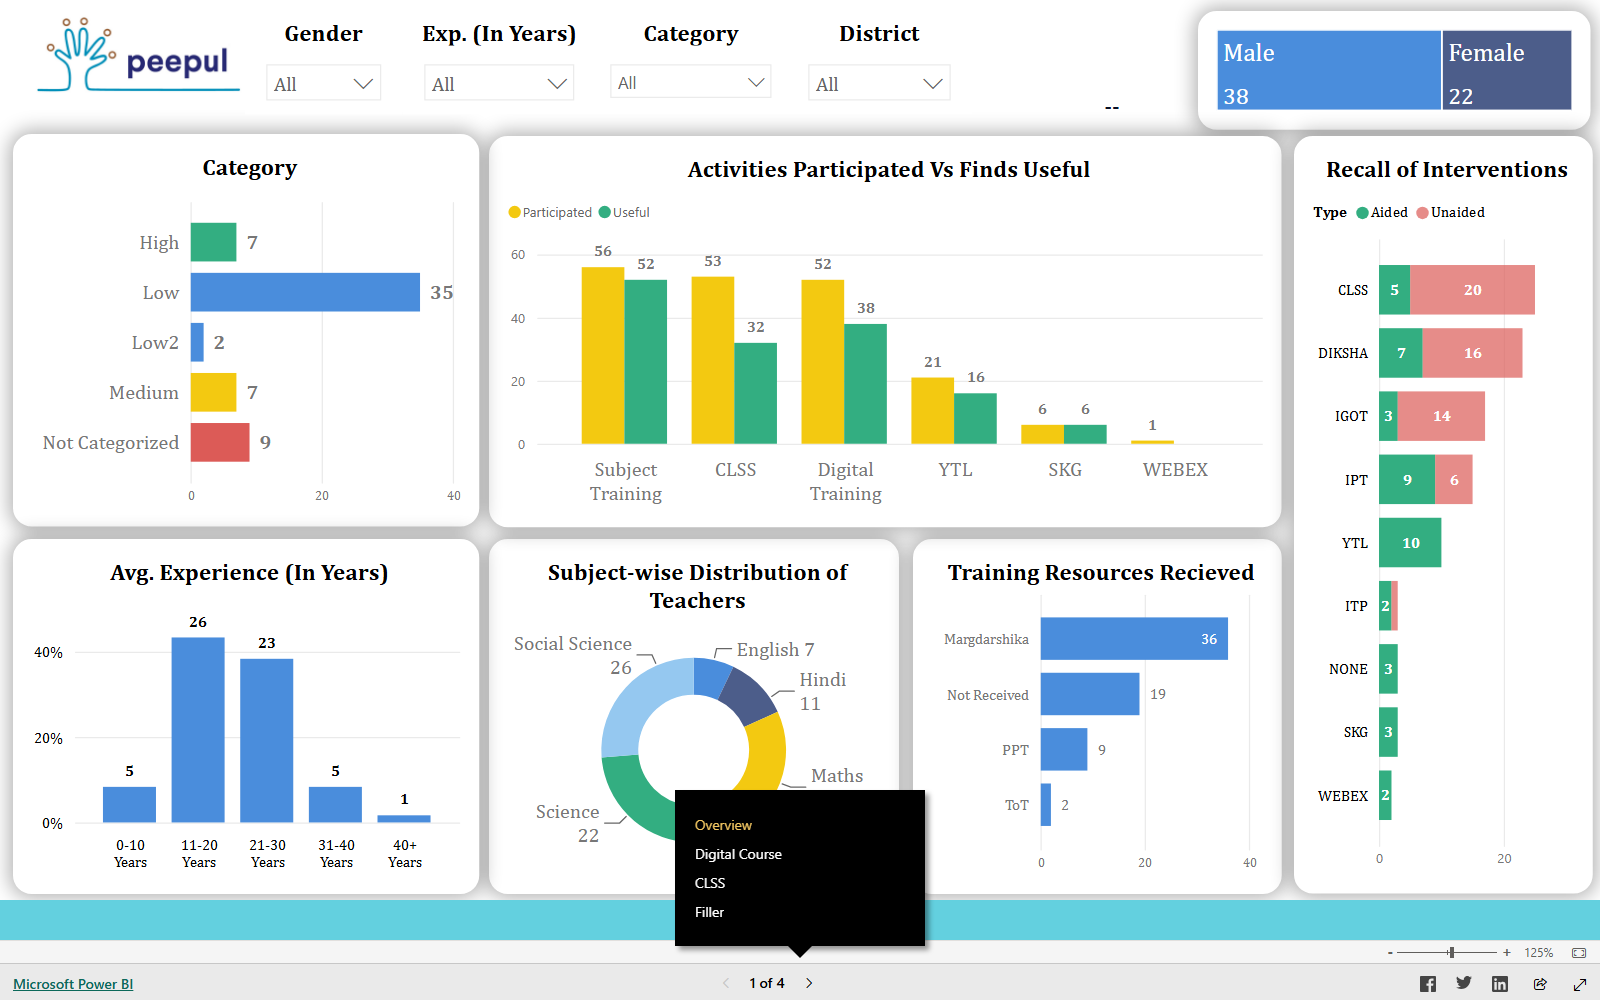

Layout of this report page (visuals, bound fields, positions):
{"tool":"powerbi","page":{"name":"Overview","canvas":[1280,720],"ordinal":0},"visuals":[{"type":"slicer","title":"Gender","fields":{"Values":["Quant_Structured.Gender of respondent"]},"box":[697.8,0,125.6,88.9],"z":0,"group":"g1"},{"type":"treemap","title":"Gender of respondent","fields":{"Group":["Quant_Structured.Gender of respondent"],"Values":["CountNonNull(Quant_Structured.Teacher_ID)"]},"box":[1035.1,108.3,238.8,94.8],"z":0},{"type":"slicer","title":"Exp. (In Years)","fields":{"Values":["Quant_Structured.Experience Category"]},"box":[824.5,0,154.4,88.9],"z":1000,"group":"g1"},{"type":"donutChart","title":"Subject-wise Distribution of Teachers","fields":{"Y":["Sum(Quant_Structured.Subject taught by teacher/English)","Sum(Quant_Structured.Subject taught by teacher/Hindi)","Sum(Quant_Structured.Subject taught by teacher/Maths)","Sum(Quant_Structured.Subject taught by teacher/Sanskrit)","Sum(Quant_Structured.Subject taught by teacher/Science)","Sum(Quant_Structured.Subject taught by teacher/Social Science)"]},"box":[391.2,431.2,327.5,283.8],"z":1000},{"type":"slicer","title":"Category","fields":{"Values":["Quant_Structured.CategoryWise","Quant_Structured.Teacher_ID"]},"box":[973.4,0,163.3,88.9],"z":2000,"group":"g1"},{"type":"barChart","title":"Training Resources Recieved ","fields":{"Category":["Training resources.Attribute"],"Y":["Sum(Training resources.Value)"]},"box":[730,431.2,295,283.8],"z":2000},{"type":"slicer","title":"District","fields":{"Values":["Quant_Structured.District of respondent teacher"]},"box":[1131.1,0,147.8,88.9],"z":3000,"group":"g1"},{"type":"clusteredColumnChart","title":"Activities Participated Vs Finds Useful","fields":{"Category":["Training.Training"],"Y":["Training.Participated","Training.Useful"]},"box":[391.4,108.6,634.3,312.9],"z":4000},{"type":"barChart","title":"Category","fields":{"Category":["Quant_Structured.CategoryWise"],"Y":["CountNonNull(Quant_Structured.Teacher_ID)"]},"box":[10,107.1,372.9,314.3],"z":5000},{"type":"image","box":[0,0,224,96],"z":6000},{"type":"columnChart","title":"Avg. Experience (In Years)","fields":{"Category":["Quant_Structured.Experience Category"],"Y":["Quant_Structured.Experience %"]},"box":[10,431.2,372.5,283.8],"z":7000},{"type":"barChart","title":"Recall of Interventions","fields":{"Category":["Aided/Unaided.Value"],"Series":["Aided/Unaided.Type"],"Y":["CountNonNull(Aided/Unaided.Type)"]},"box":[1035.1,209.2,238.8,504.6],"z":8000},{"type":"group","id":"g1","title":"Group 1","box":[697.8,0,582.2,88.6],"z":9000},{"type":"cardVisual","fields":{"Data":["Training.Useful %"]},"box":[866.2,56.2,92.5,47.5],"z":10000}]}

Visuals, with their boxes on the page's 1280x720 design canvas (x1, y1, x2, y2). These are canvas units, not pixel positions in the 1600x1000 screenshot, which may show the page scaled, cropped or inside an application window:
"Gender" slicer: (x1=698, y1=0, x2=823, y2=89)
"Gender of respondent" treemap: (x1=1035, y1=108, x2=1274, y2=203)
"Exp. (In Years)" slicer: (x1=824, y1=0, x2=979, y2=89)
"Subject-wise Distribution of Teachers" donutChart: (x1=391, y1=431, x2=719, y2=715)
"Category" slicer: (x1=973, y1=0, x2=1137, y2=89)
"Training Resources Recieved " barChart: (x1=730, y1=431, x2=1025, y2=715)
"District" slicer: (x1=1131, y1=0, x2=1279, y2=89)
"Activities Participated Vs Finds Useful" clusteredColumnChart: (x1=391, y1=109, x2=1026, y2=422)
"Category" barChart: (x1=10, y1=107, x2=383, y2=421)
image: (x1=0, y1=0, x2=224, y2=96)
"Avg. Experience (In Years)" columnChart: (x1=10, y1=431, x2=382, y2=715)
"Recall of Interventions" barChart: (x1=1035, y1=209, x2=1274, y2=714)
"Group 1" group: (x1=698, y1=0, x2=1280, y2=89)
cardVisual - Training.Useful %: (x1=866, y1=56, x2=959, y2=104)
